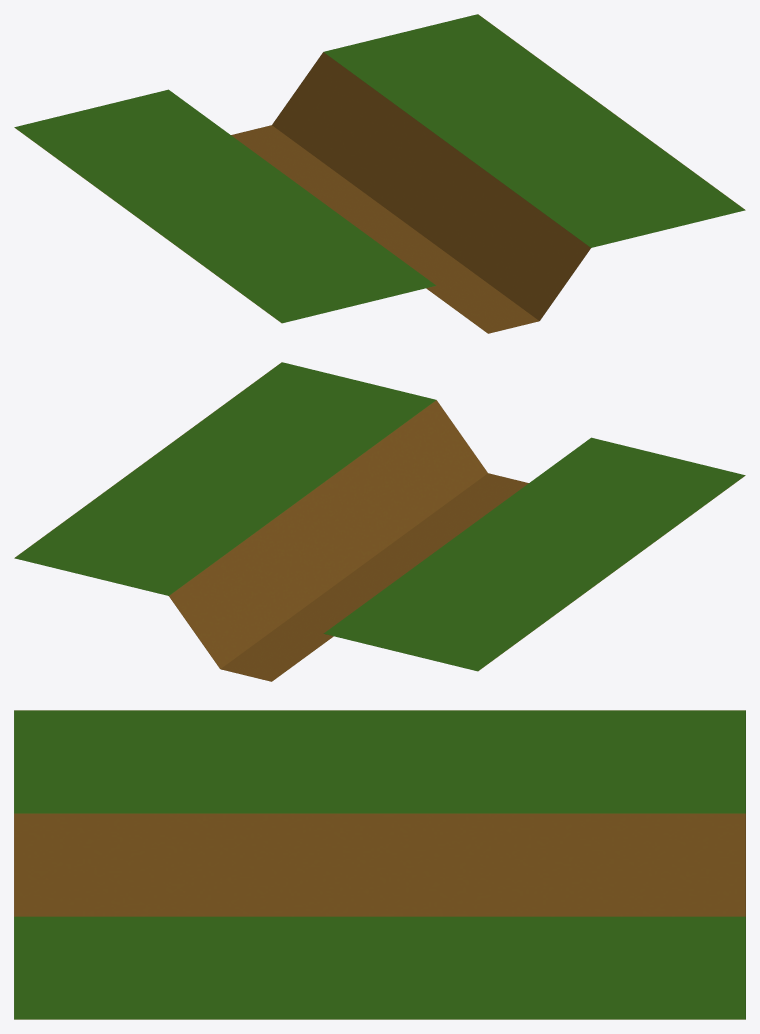
The model's file is trench2.glb.
3 views of the same model, one above another, from view 1: azimuth 30°, elevation 25°; view 2: azimuth 150°, elevation 25°; view 3: azimuth 270°, elevation 25° (orthographic). The views are drawn at different scales.
Parts seen in each view (by area): view 1: Trench2; view 2: Trench2; view 3: Trench2.
Boxes of the visible parts, x1,y1,x2,y2 form: Trench2: (14,14,745,333); Trench2: (14,362,745,681); Trench2: (14,710,745,1019).
Size of the model in its own units: 2 by 0.25 by 2.
Materials: 1 (1 with a texture image).
